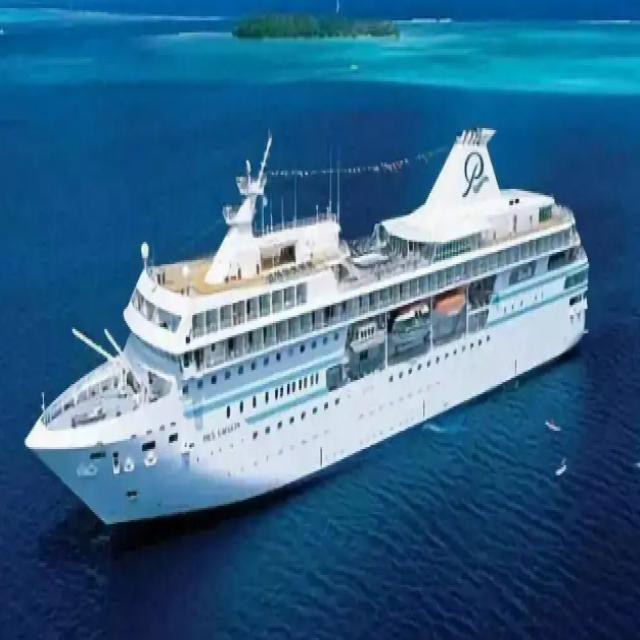passenger ship: (21, 100, 598, 544)
